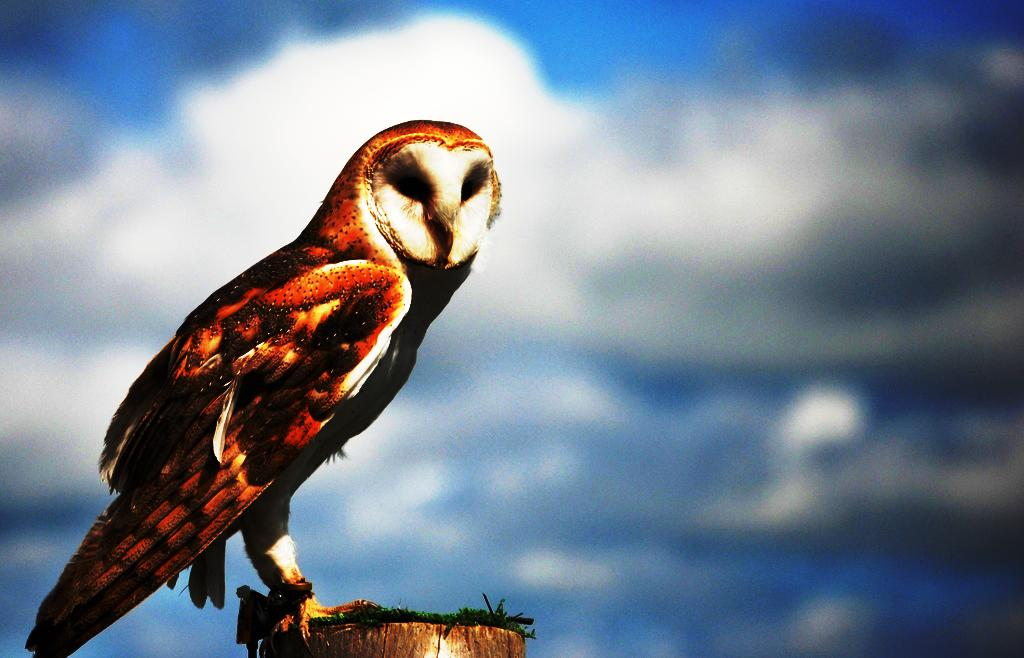Owl: (20, 110, 511, 658)
